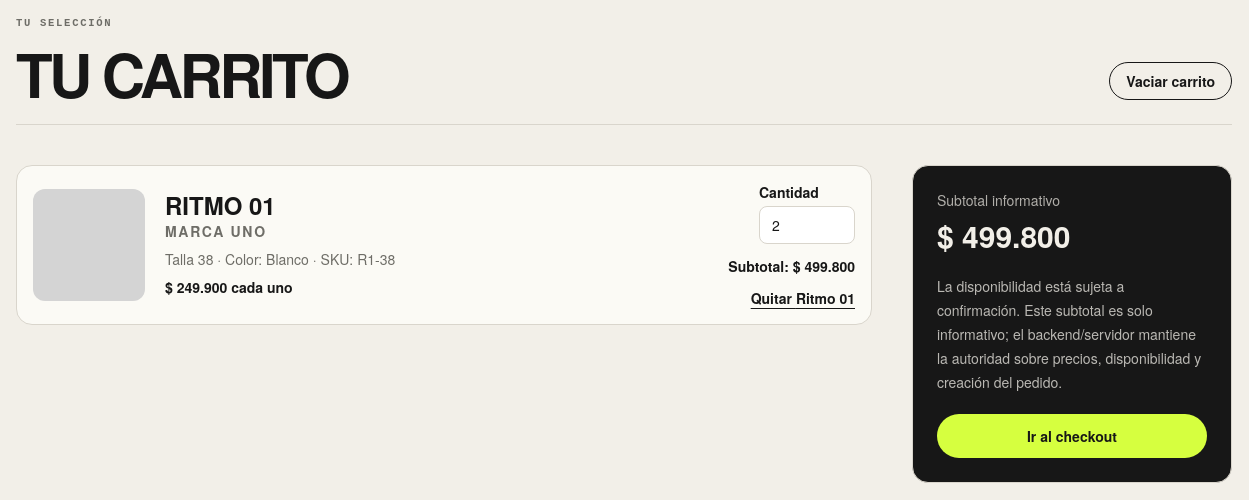
Test case: cart review page › shows display snapshots, informational COP subtotal, quantity controls, and authority warning
The width and height of the screenshot is (1249, 500).
Expected: the heading "Tu carrito" is shown, [16,47,347,100]
Expected: the heading "Ritmo 01" is shown, [165,188,276,222]
Replace the text in the number field labelled "Cantidad" with "3" at (807, 225), box [759,206,855,244]
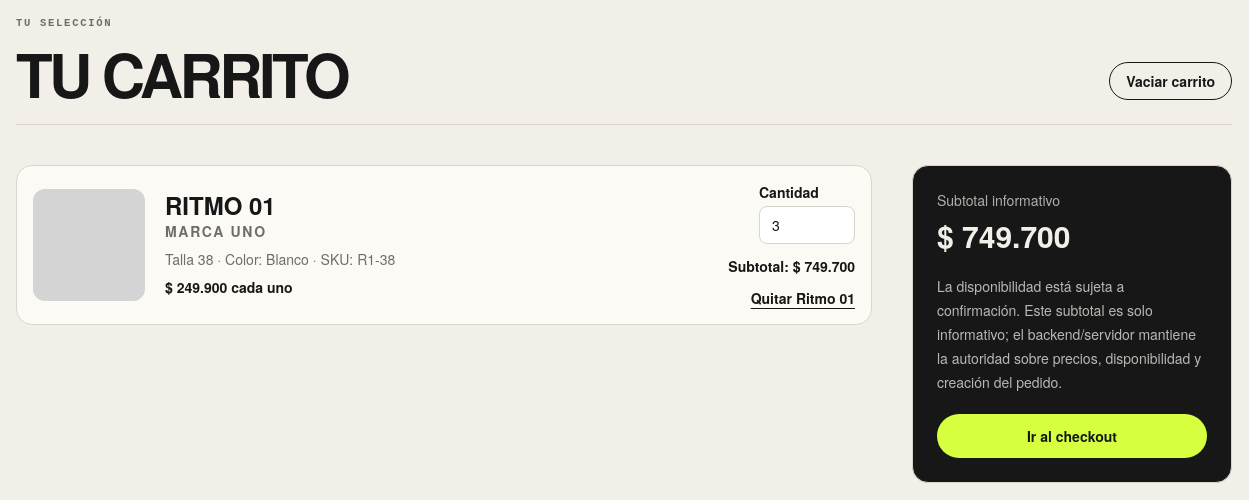
Expected: the text "$ 749.700" next to "Subtotal:" is shown, [793,256,855,276]
Click the button "Quitar Ritmo 01".
click(803, 298)  # box [751,288,855,308]
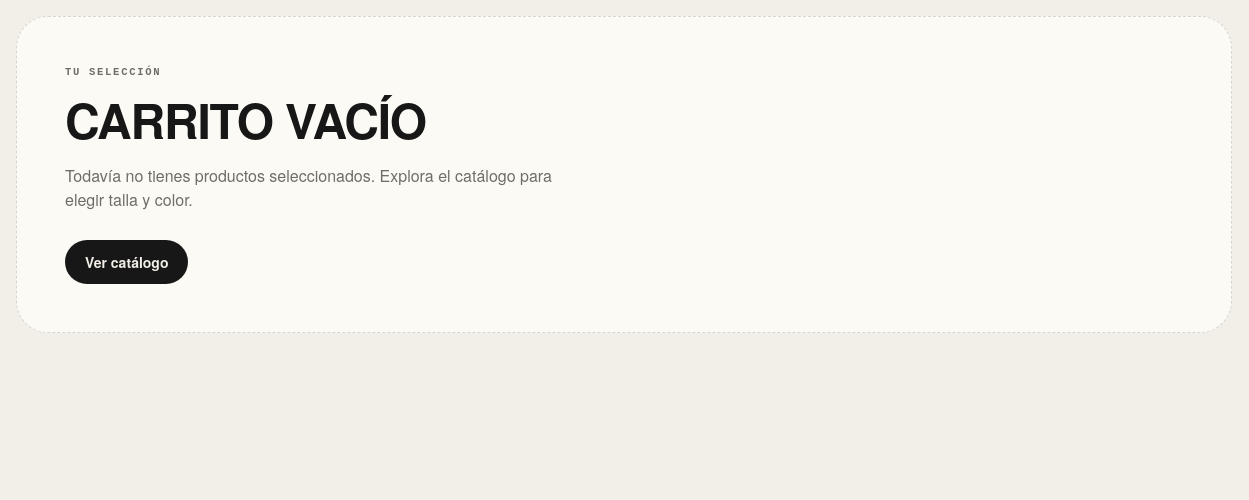
Expected: the message shows "Carrito vacío", [65,85,426,154]
